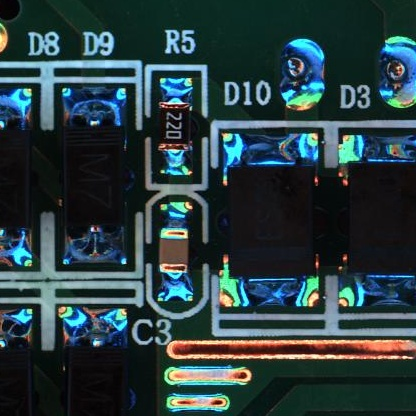spot: (279, 37, 326, 114), (374, 36, 416, 108)
